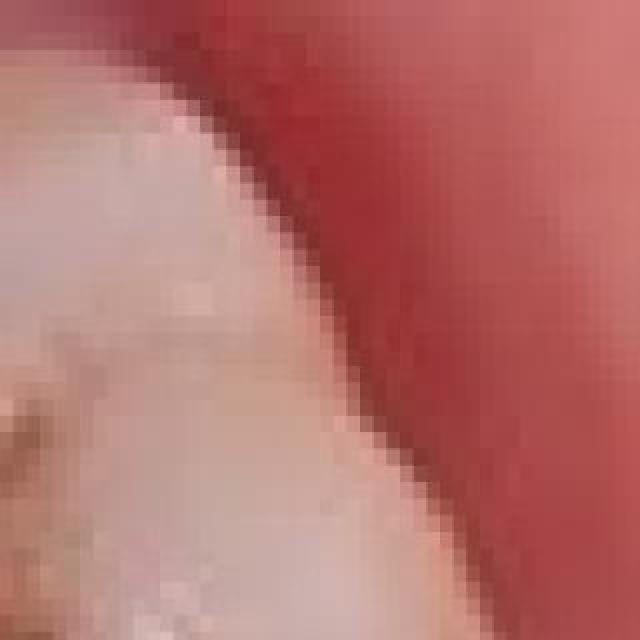cavities: (0, 238, 166, 640)
